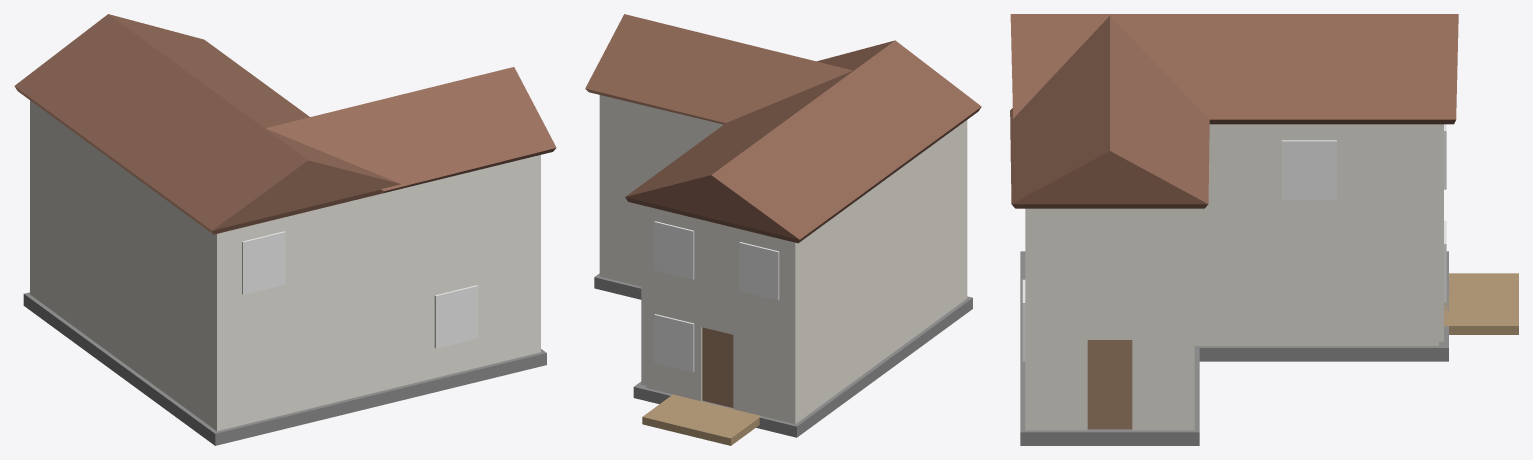
Rendered from final-l-shaped-model.glb.
The picture shows the model from 3 angles, left to right: view 1: azimuth 30°, elevation 25°; view 2: azimuth 150°, elevation 25°; view 3: azimuth 270°, elevation 25°; orthographic projection. The views are drawn at different scales.
Visible parts, largest first — view 1: Roof_Main_Gable, Left_Wall_Main_F1, Roof_Extension_Gable, Left_Wall_Main_F2, Back_Wall_Main_Left_F1, Back_Wall_Extension_F2, Back_Wall_Main_Left_F2, Back_Wall_Extension_F1, Foundation_L_Shaped, Window_F1_Back_Ext_Frame, Window_F2_Back_Left_Frame, Right_Wall_Extension_F1 (+1 smaller); view 2: Roof_Main_Gable, Left_Wall_Main_F1, Roof_Extension_Gable, Left_Wall_Main_F2, Front_Wall_Main_F1, Front_Wall_Main_F2, Front_Wall_Extension_F2, Foundation_L_Shaped, Terrace, Front_Wall_Extension_F1, Door, Window_F2_Front_Left_Frame (+6 smaller); view 3: Roof_Main_Gable, Roof_Extension_Gable, Right_Wall_Main_Upper_F1, Right_Wall_Main_Upper_F2, Right_Wall_Extension_F2, Right_Wall_Extension_F1, Foundation_L_Shaped, Terrace, Door_Side, Window_F2_Right_Main_Frame, Front_Wall_Main_F1, Front_Wall_Main_F2.
Part boxes in pixels (left/top/right/bottom): Roof_Main_Gable: left=14, top=14, right=400, bottom=234; Left_Wall_Main_F1: left=30, top=194, right=224, bottom=431; Roof_Extension_Gable: left=265, top=67, right=556, bottom=193; Left_Wall_Main_F2: left=30, top=100, right=224, bottom=330; Back_Wall_Main_Left_F1: left=221, top=290, right=382, bottom=429; Back_Wall_Extension_F2: left=375, top=157, right=533, bottom=289; Back_Wall_Main_Left_F2: left=220, top=193, right=382, bottom=329; Back_Wall_Extension_F1: left=382, top=253, right=532, bottom=390; Foundation_L_Shaped: left=23, top=292, right=546, bottom=445; Window_F1_Back_Ext_Frame: left=434, top=285, right=478, bottom=348; Window_F2_Back_Left_Frame: left=242, top=231, right=285, bottom=294; Right_Wall_Extension_F1: left=533, top=251, right=540, bottom=353; Roof_Main_Gable: left=625, top=40, right=981, bottom=243; Left_Wall_Main_F1: left=788, top=206, right=967, bottom=424; Roof_Extension_Gable: left=585, top=14, right=852, bottom=124; Left_Wall_Main_F2: left=788, top=120, right=967, bottom=331; Front_Wall_Main_F1: left=646, top=295, right=788, bottom=422; Front_Wall_Main_F2: left=646, top=206, right=788, bottom=329; Front_Wall_Extension_F2: left=603, top=96, right=723, bottom=191; Foundation_L_Shaped: left=594, top=273, right=972, bottom=437; Terrace: left=642, top=394, right=761, bottom=445; Front_Wall_Extension_F1: left=603, top=185, right=641, bottom=286; Door: left=702, top=327, right=733, bottom=407; Window_F2_Front_Left_Frame: left=739, top=242, right=779, bottom=300; Roof_Main_Gable: left=1010, top=14, right=1458, bottom=124; Roof_Extension_Gable: left=1010, top=16, right=1209, bottom=208; Right_Wall_Main_Upper_F1: left=1194, top=233, right=1438, bottom=345; Right_Wall_Main_Upper_F2: left=1194, top=124, right=1438, bottom=232; Right_Wall_Extension_F2: left=1025, top=208, right=1194, bottom=317; Right_Wall_Extension_F1: left=1025, top=317, right=1194, bottom=430; Foundation_L_Shaped: left=1020, top=251, right=1448, bottom=445; Terrace: left=1444, top=273, right=1518, bottom=334; Door_Side: left=1087, top=340, right=1132, bottom=429; Window_F2_Right_Main_Frame: left=1282, top=140, right=1336, bottom=200; Front_Wall_Main_F1: left=1439, top=228, right=1443, bottom=341; Front_Wall_Main_F2: left=1439, top=124, right=1443, bottom=228.
Bounding box in the file's own units: 8.96 × 6.62 × 10.2.
